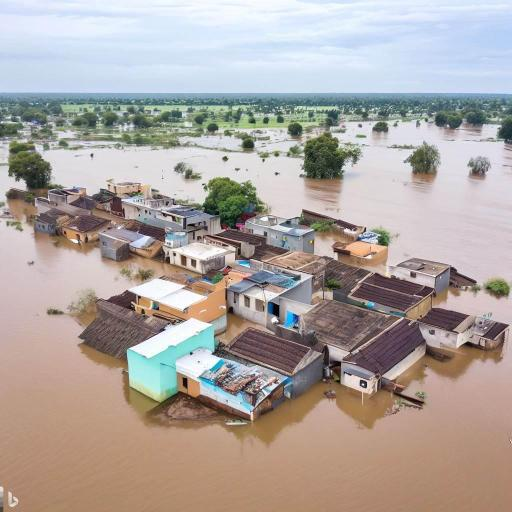flood: (0, 200, 512, 512), (36, 120, 512, 285), (435, 290, 512, 325), (0, 165, 23, 201), (0, 142, 6, 163)
house: (311, 295, 433, 395), (172, 344, 286, 428), (124, 313, 222, 402), (76, 292, 171, 362), (228, 323, 324, 392), (333, 268, 434, 320), (243, 272, 309, 332), (146, 282, 232, 328), (388, 256, 452, 298), (420, 305, 474, 349), (175, 238, 233, 278), (268, 217, 318, 253), (106, 229, 158, 263), (334, 232, 392, 262), (62, 213, 110, 247), (98, 224, 136, 266), (214, 222, 260, 256), (162, 206, 222, 230), (468, 318, 508, 352), (129, 232, 161, 263), (124, 195, 162, 221), (34, 209, 60, 237), (165, 228, 190, 256), (105, 177, 141, 193)
